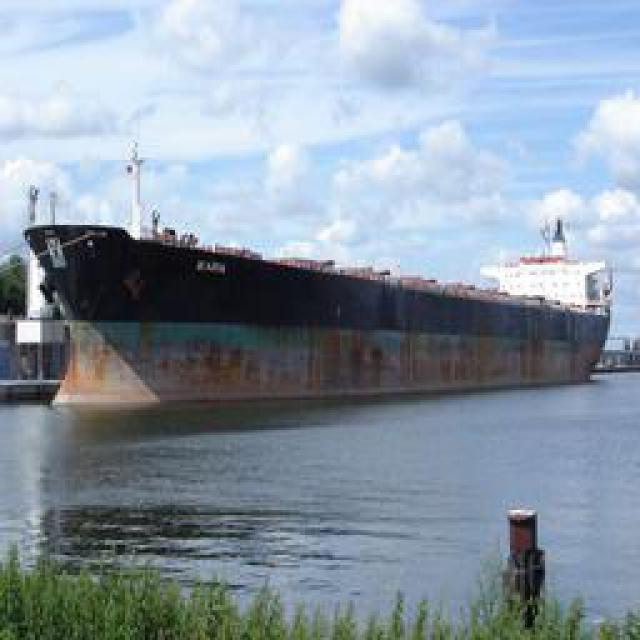Ship: (20, 223, 613, 418)
